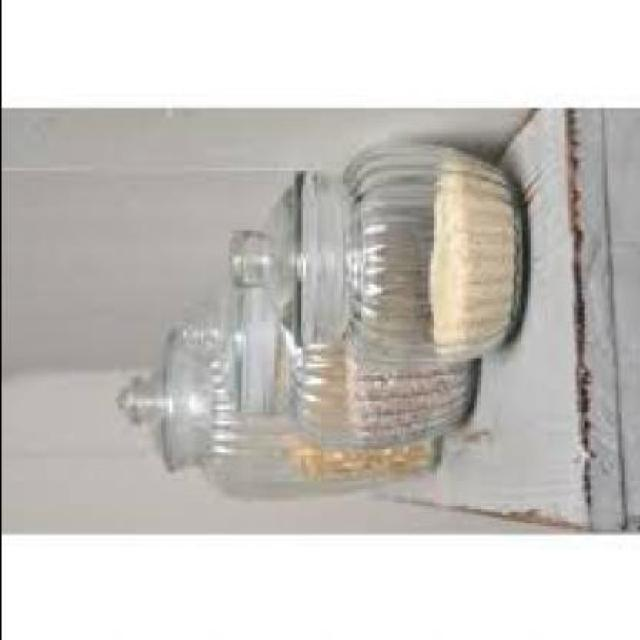GLASS: (225, 142, 520, 358), (111, 322, 432, 496), (219, 296, 475, 452)
